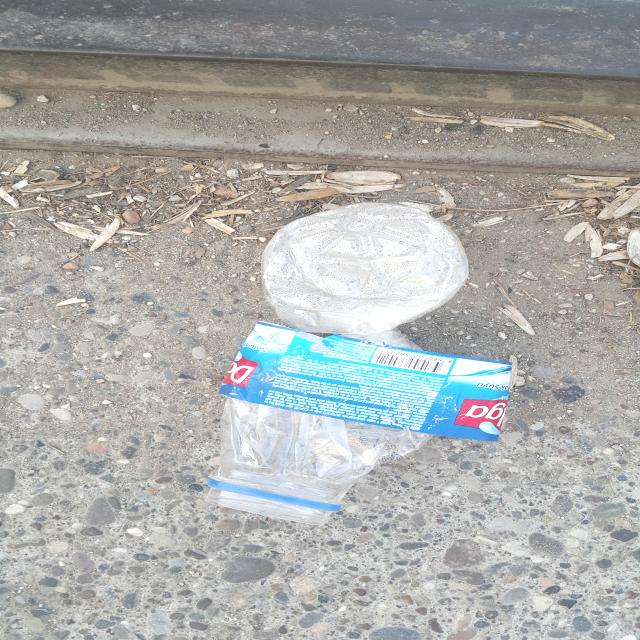Clear plastic bottle: (204, 202, 468, 526)
Wrapping paper: (219, 321, 512, 442)
